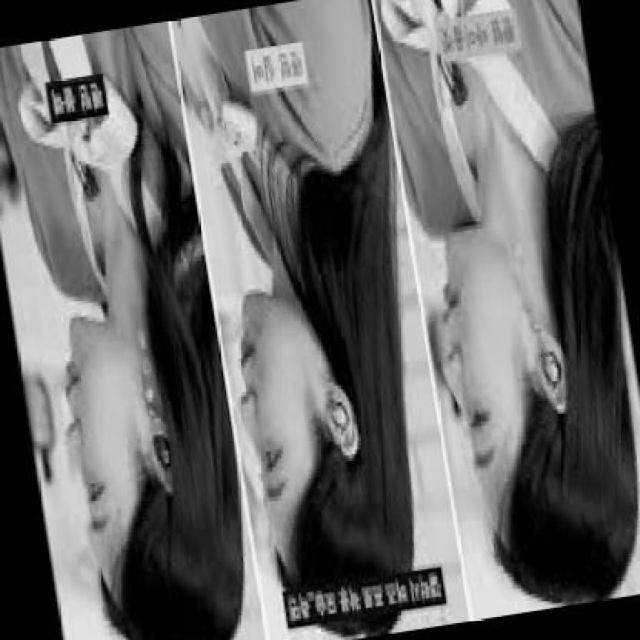earphone: (309, 381, 366, 460), (130, 402, 181, 482), (537, 346, 571, 404)
